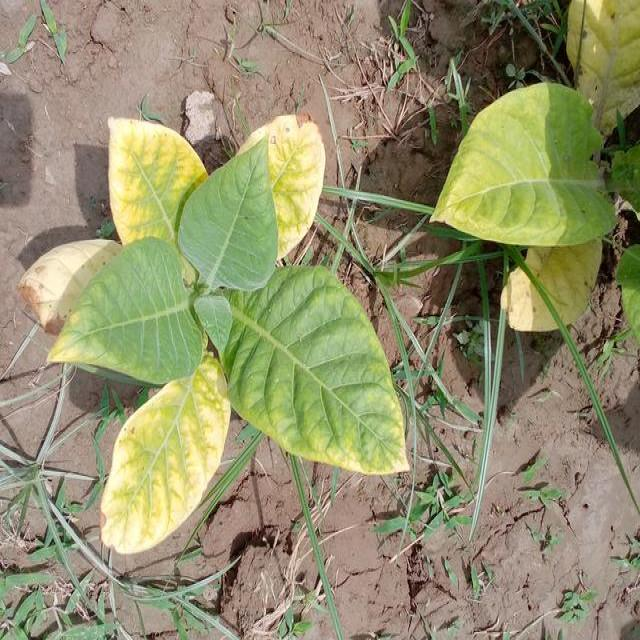crop: (23, 113, 413, 556), (449, 0, 640, 315)
